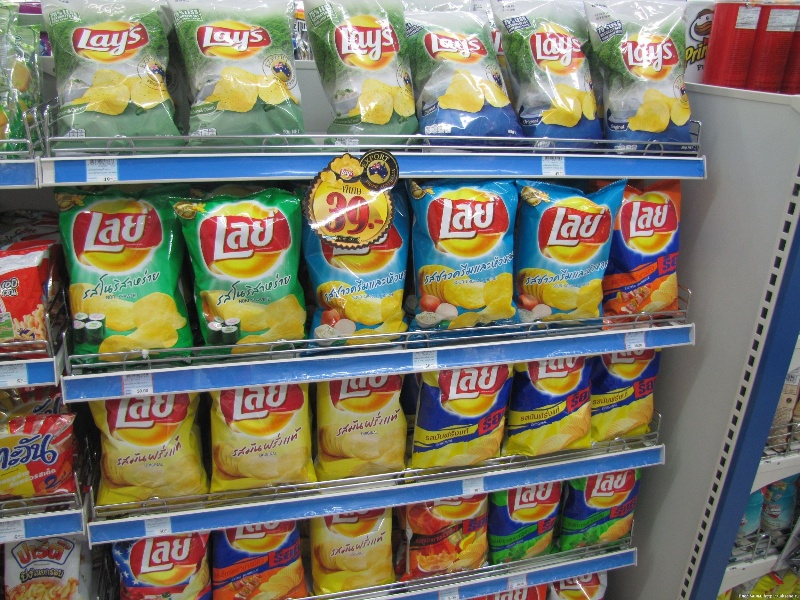chips: (49, 187, 199, 369), (175, 188, 315, 355), (42, 1, 188, 155), (171, 1, 315, 145), (582, 1, 709, 156), (409, 177, 532, 335), (313, 1, 427, 155), (403, 10, 525, 150), (502, 2, 608, 149), (205, 380, 322, 492), (524, 176, 609, 329), (93, 397, 213, 503), (608, 180, 695, 322), (409, 362, 509, 476), (312, 240, 416, 347), (312, 374, 411, 477)
